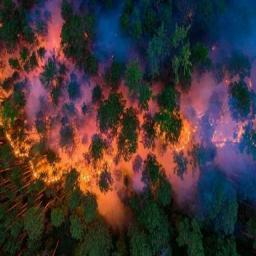Large fire: (0, 0, 256, 223)
